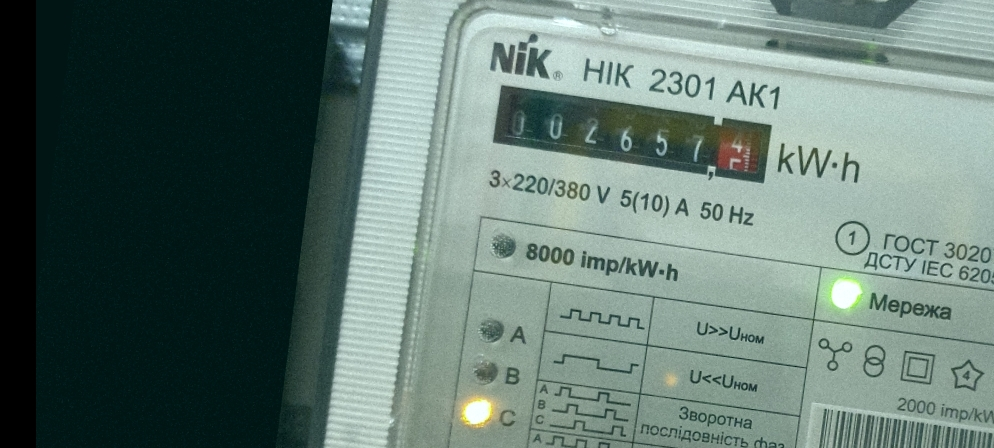0: (547, 109, 566, 141), (509, 106, 529, 136)
2: (582, 114, 602, 145)
4: (729, 126, 747, 153)
5: (653, 125, 672, 157), (727, 155, 744, 171)
6: (618, 121, 636, 152)
7: (688, 130, 707, 164)
screen: (482, 72, 786, 195)
